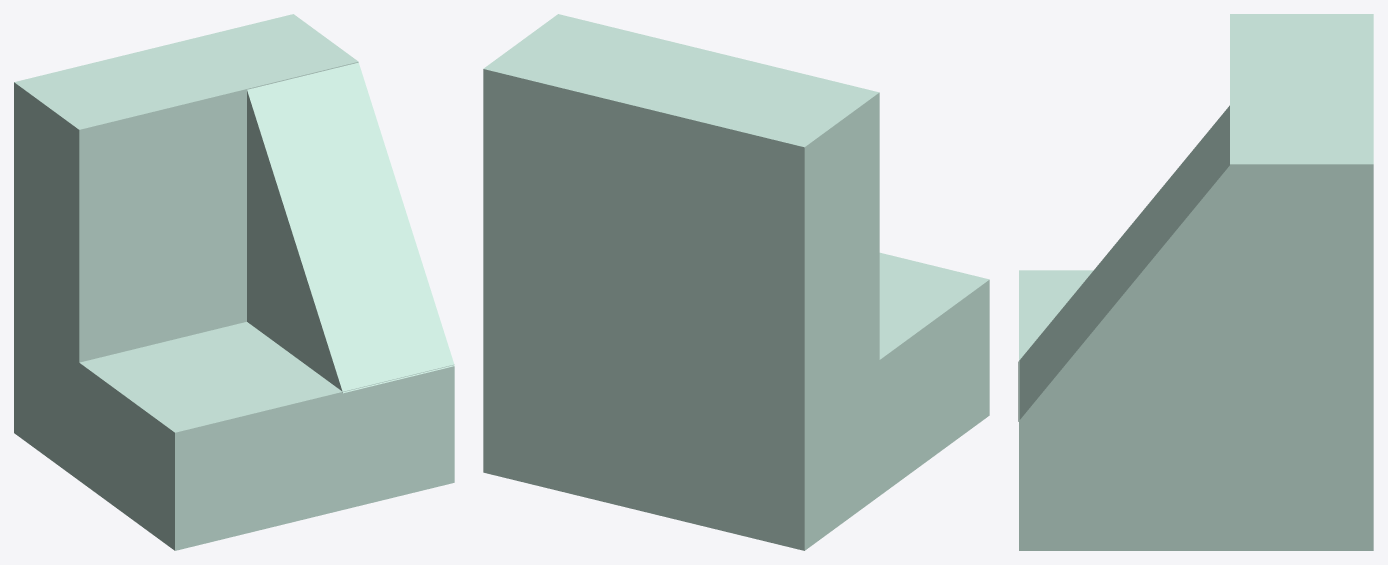
3 renders of one model, left to right at view 1: azimuth 30°, elevation 25°; view 2: azimuth 150°, elevation 25°; view 3: azimuth 270°, elevation 25°, orthographic. The views are drawn at different scales.
Parts seen in each view (by area): view 1: Renderer Node; view 2: Renderer Node; view 3: Renderer Node.
Part boxes in pixels (x1,y1,x2,y2): Renderer Node: [14, 14, 454, 550]; Renderer Node: [483, 14, 989, 550]; Renderer Node: [1018, 14, 1373, 550].
Size of the model in its own units: 0.625 by 0.75 by 0.625.
